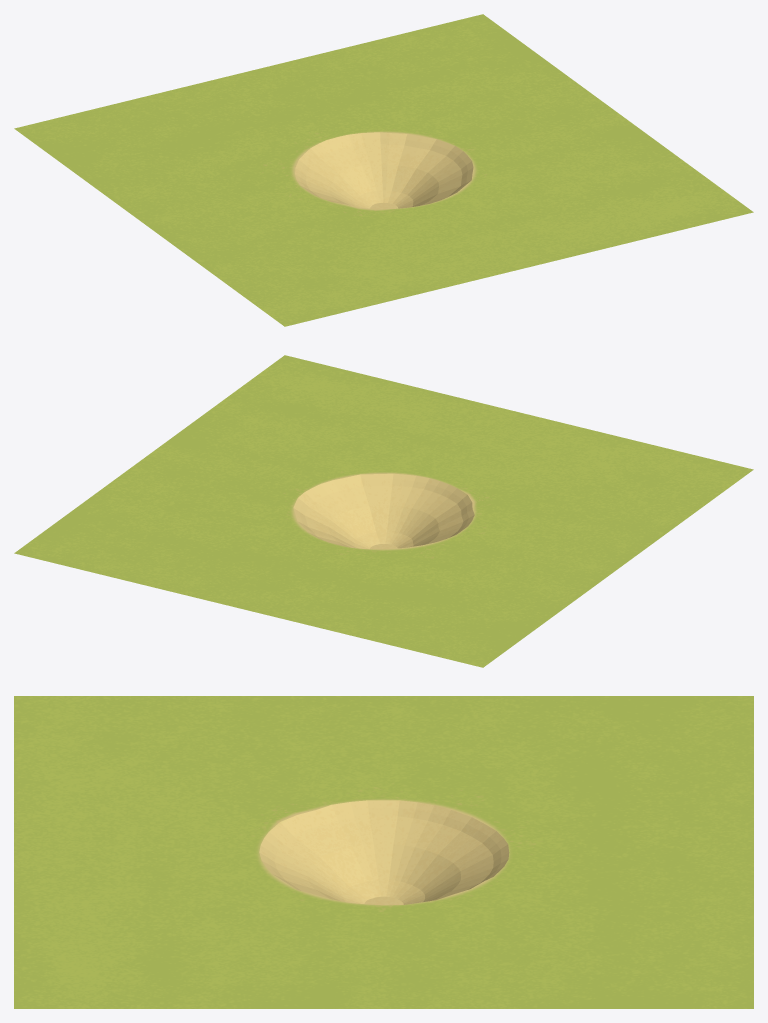
Rendered from lake.fbx.
The picture shows the model from 3 angles, top to bottom: view 1: azimuth 30°, elevation 25°; view 2: azimuth 150°, elevation 25°; view 3: azimuth 270°, elevation 25°; orthographic projection. The views are drawn at different scales.
Visible parts, largest first — view 1: ground, Lake; view 2: ground, Lake; view 3: ground, Lake.
Part boxes in pixels (x1,y1,x2,y2): ground: (14, 14, 753, 326); Lake: (295, 132, 473, 209); ground: (14, 355, 753, 667); Lake: (293, 473, 474, 549); ground: (14, 696, 753, 1008); Lake: (259, 800, 509, 905).
Bounding box in the file's own units: 200 × 15.63 × 200.
1 material, 1 textured.
